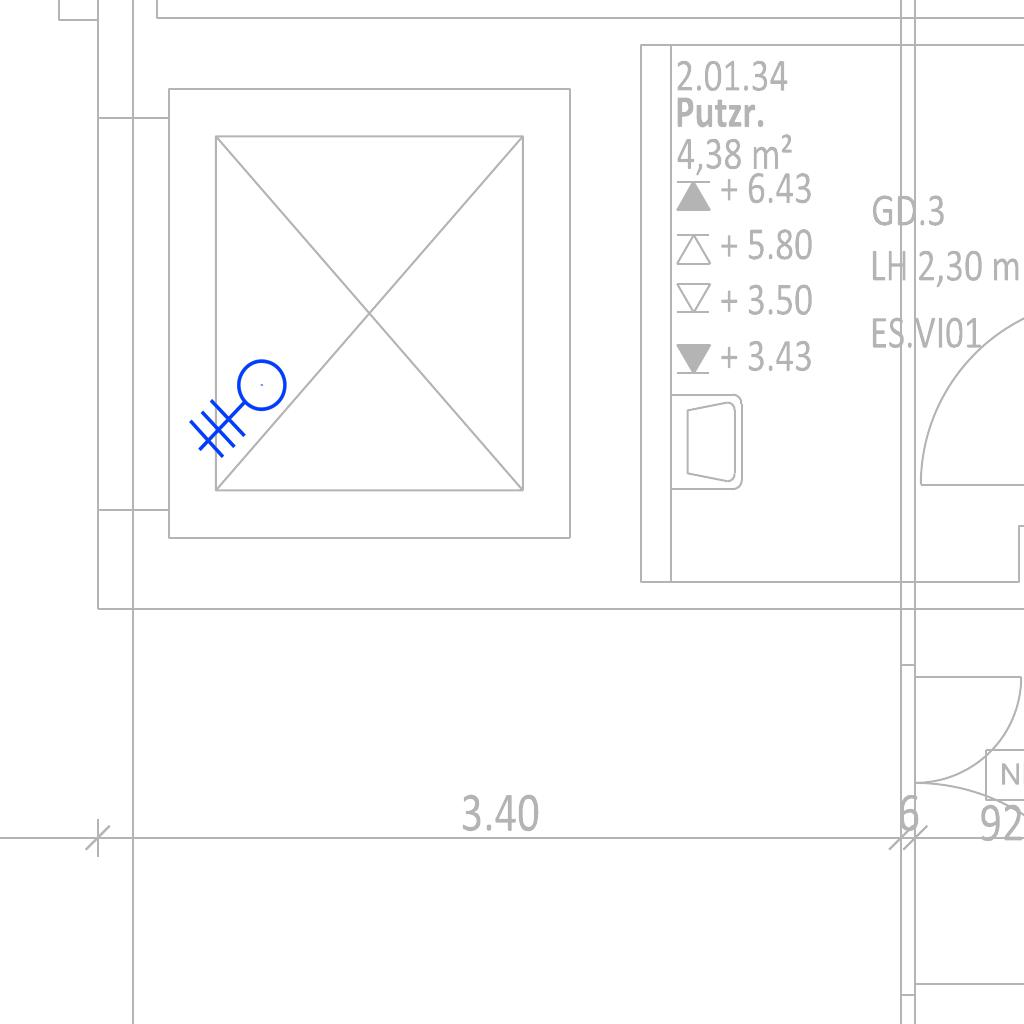Elektroanschluss_allgemein_400V_Geraeteanschlussdose_400V: (188, 358, 304, 471)
